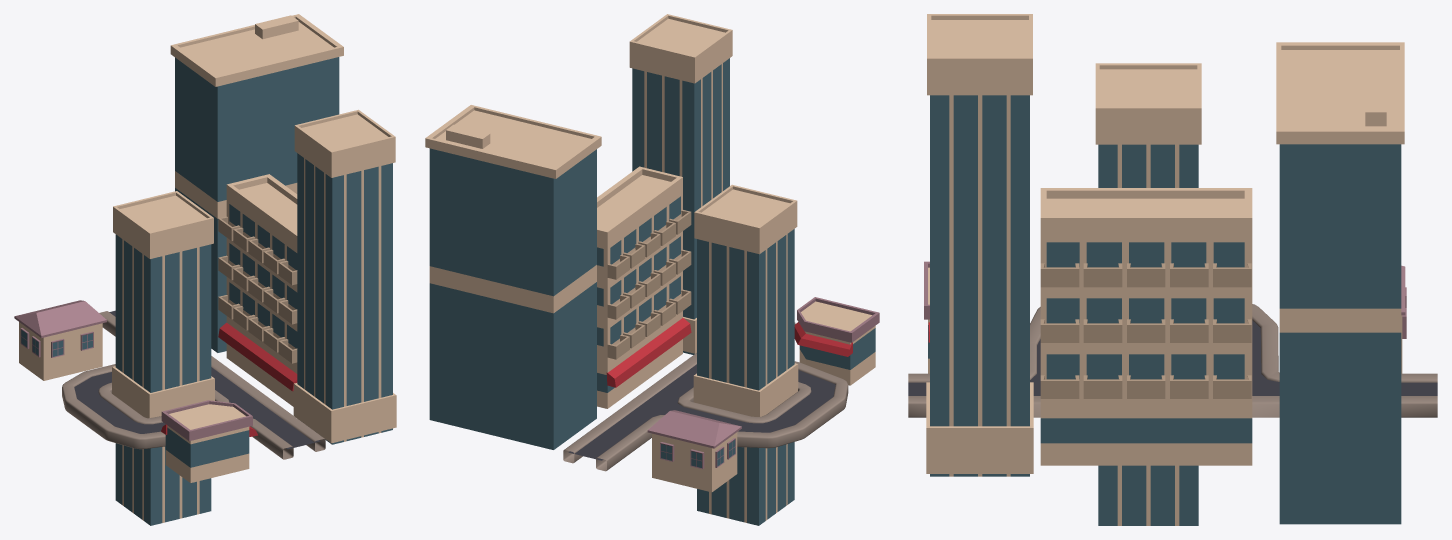
File: straight2.glb
3 views of the same model, side by side, from view 1: azimuth 30°, elevation 25°; view 2: azimuth 150°, elevation 25°; view 3: azimuth 270°, elevation 25° (orthographic). The views are drawn at different scales.
Visible parts, largest first — view 1: tall building.009, tall building.007, tall building.008, road.007, corner store.003, apt.003, bldg base.002, apartment.003, house.037, bldg base.001, 1 story.007, house.038 (+5 smaller); view 2: tall building.007, tall building.008, tall building.009, road.007, apt.003, corner store.003, apartment.003, house.037, bldg base.001, house.039, house.038, 1 story.007 (+4 smaller); view 3: tall building.007, tall building.009, tall building.008, apt.003, apartment.003, house.038, house.039, road.007, bldg base.002, Cube.026, Cube.024, Cube.022.
Part boxes in pixels (x1,y1,x2,y2): tall building.009: [294, 109, 395, 444]; tall building.007: [170, 14, 343, 352]; tall building.008: [113, 191, 213, 525]; road.007: [62, 310, 325, 459]; corner store.003: [161, 400, 257, 482]; apt.003: [226, 174, 297, 285]; bldg base.002: [293, 383, 396, 443]; apartment.003: [218, 316, 297, 406]; house.037: [19, 322, 102, 380]; bldg base.001: [112, 366, 214, 418]; 1 story.007: [14, 300, 106, 337]; house.038: [226, 277, 297, 364]; tall building.007: [425, 105, 601, 449]; tall building.008: [694, 184, 797, 525]; tall building.009: [629, 14, 732, 354]; road.007: [563, 322, 848, 471]; apt.003: [597, 166, 682, 281]; corner store.003: [794, 297, 879, 385]; apartment.003: [597, 311, 691, 408]; house.037: [652, 432, 737, 492]; bldg base.001: [693, 363, 798, 416]; house.039: [597, 231, 682, 323]; house.038: [597, 271, 682, 363]; 1 story.007: [647, 410, 741, 448]; tall building.007: [1276, 42, 1404, 524]; tall building.009: [927, 14, 1032, 476]; tall building.008: [1095, 63, 1201, 525]; apt.003: [1040, 188, 1252, 289]; apartment.003: [1040, 401, 1252, 465]; house.038: [1040, 337, 1252, 401]; house.039: [1040, 281, 1252, 337]; road.007: [908, 304, 1437, 417]; bldg base.002: [926, 382, 1033, 473]; Cube.026: [1040, 263, 1251, 287]; Cube.024: [1040, 319, 1251, 342]; Cube.022: [1040, 375, 1251, 398].
Size of the model in its own units: 113 by 139 by 120.
